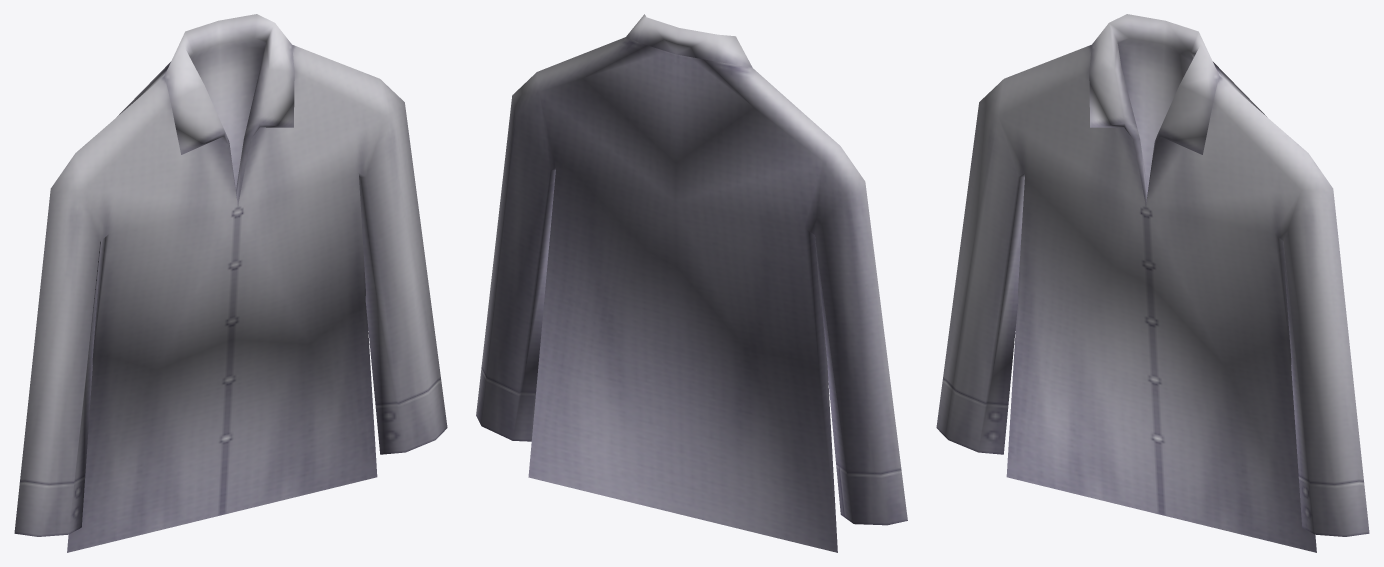
File: G_DanShenHan_yifu_03.FBX
3 renders of one model, left to right at view 1: azimuth 30°, elevation 25°; view 2: azimuth 150°, elevation 25°; view 3: azimuth 330°, elevation 25°, orthographic.
Parts seen in each view (by area): view 1: DanShenHan_yifu_03; view 2: DanShenHan_yifu_03; view 3: DanShenHan_yifu_03.
Part boxes in pixels (x1,y1,x2,y2): DanShenHan_yifu_03: (14,14,447,552); DanShenHan_yifu_03: (476,14,907,552); DanShenHan_yifu_03: (936,14,1369,552).
Bounding box in the file's own units: 124 × 134 × 13.74.
